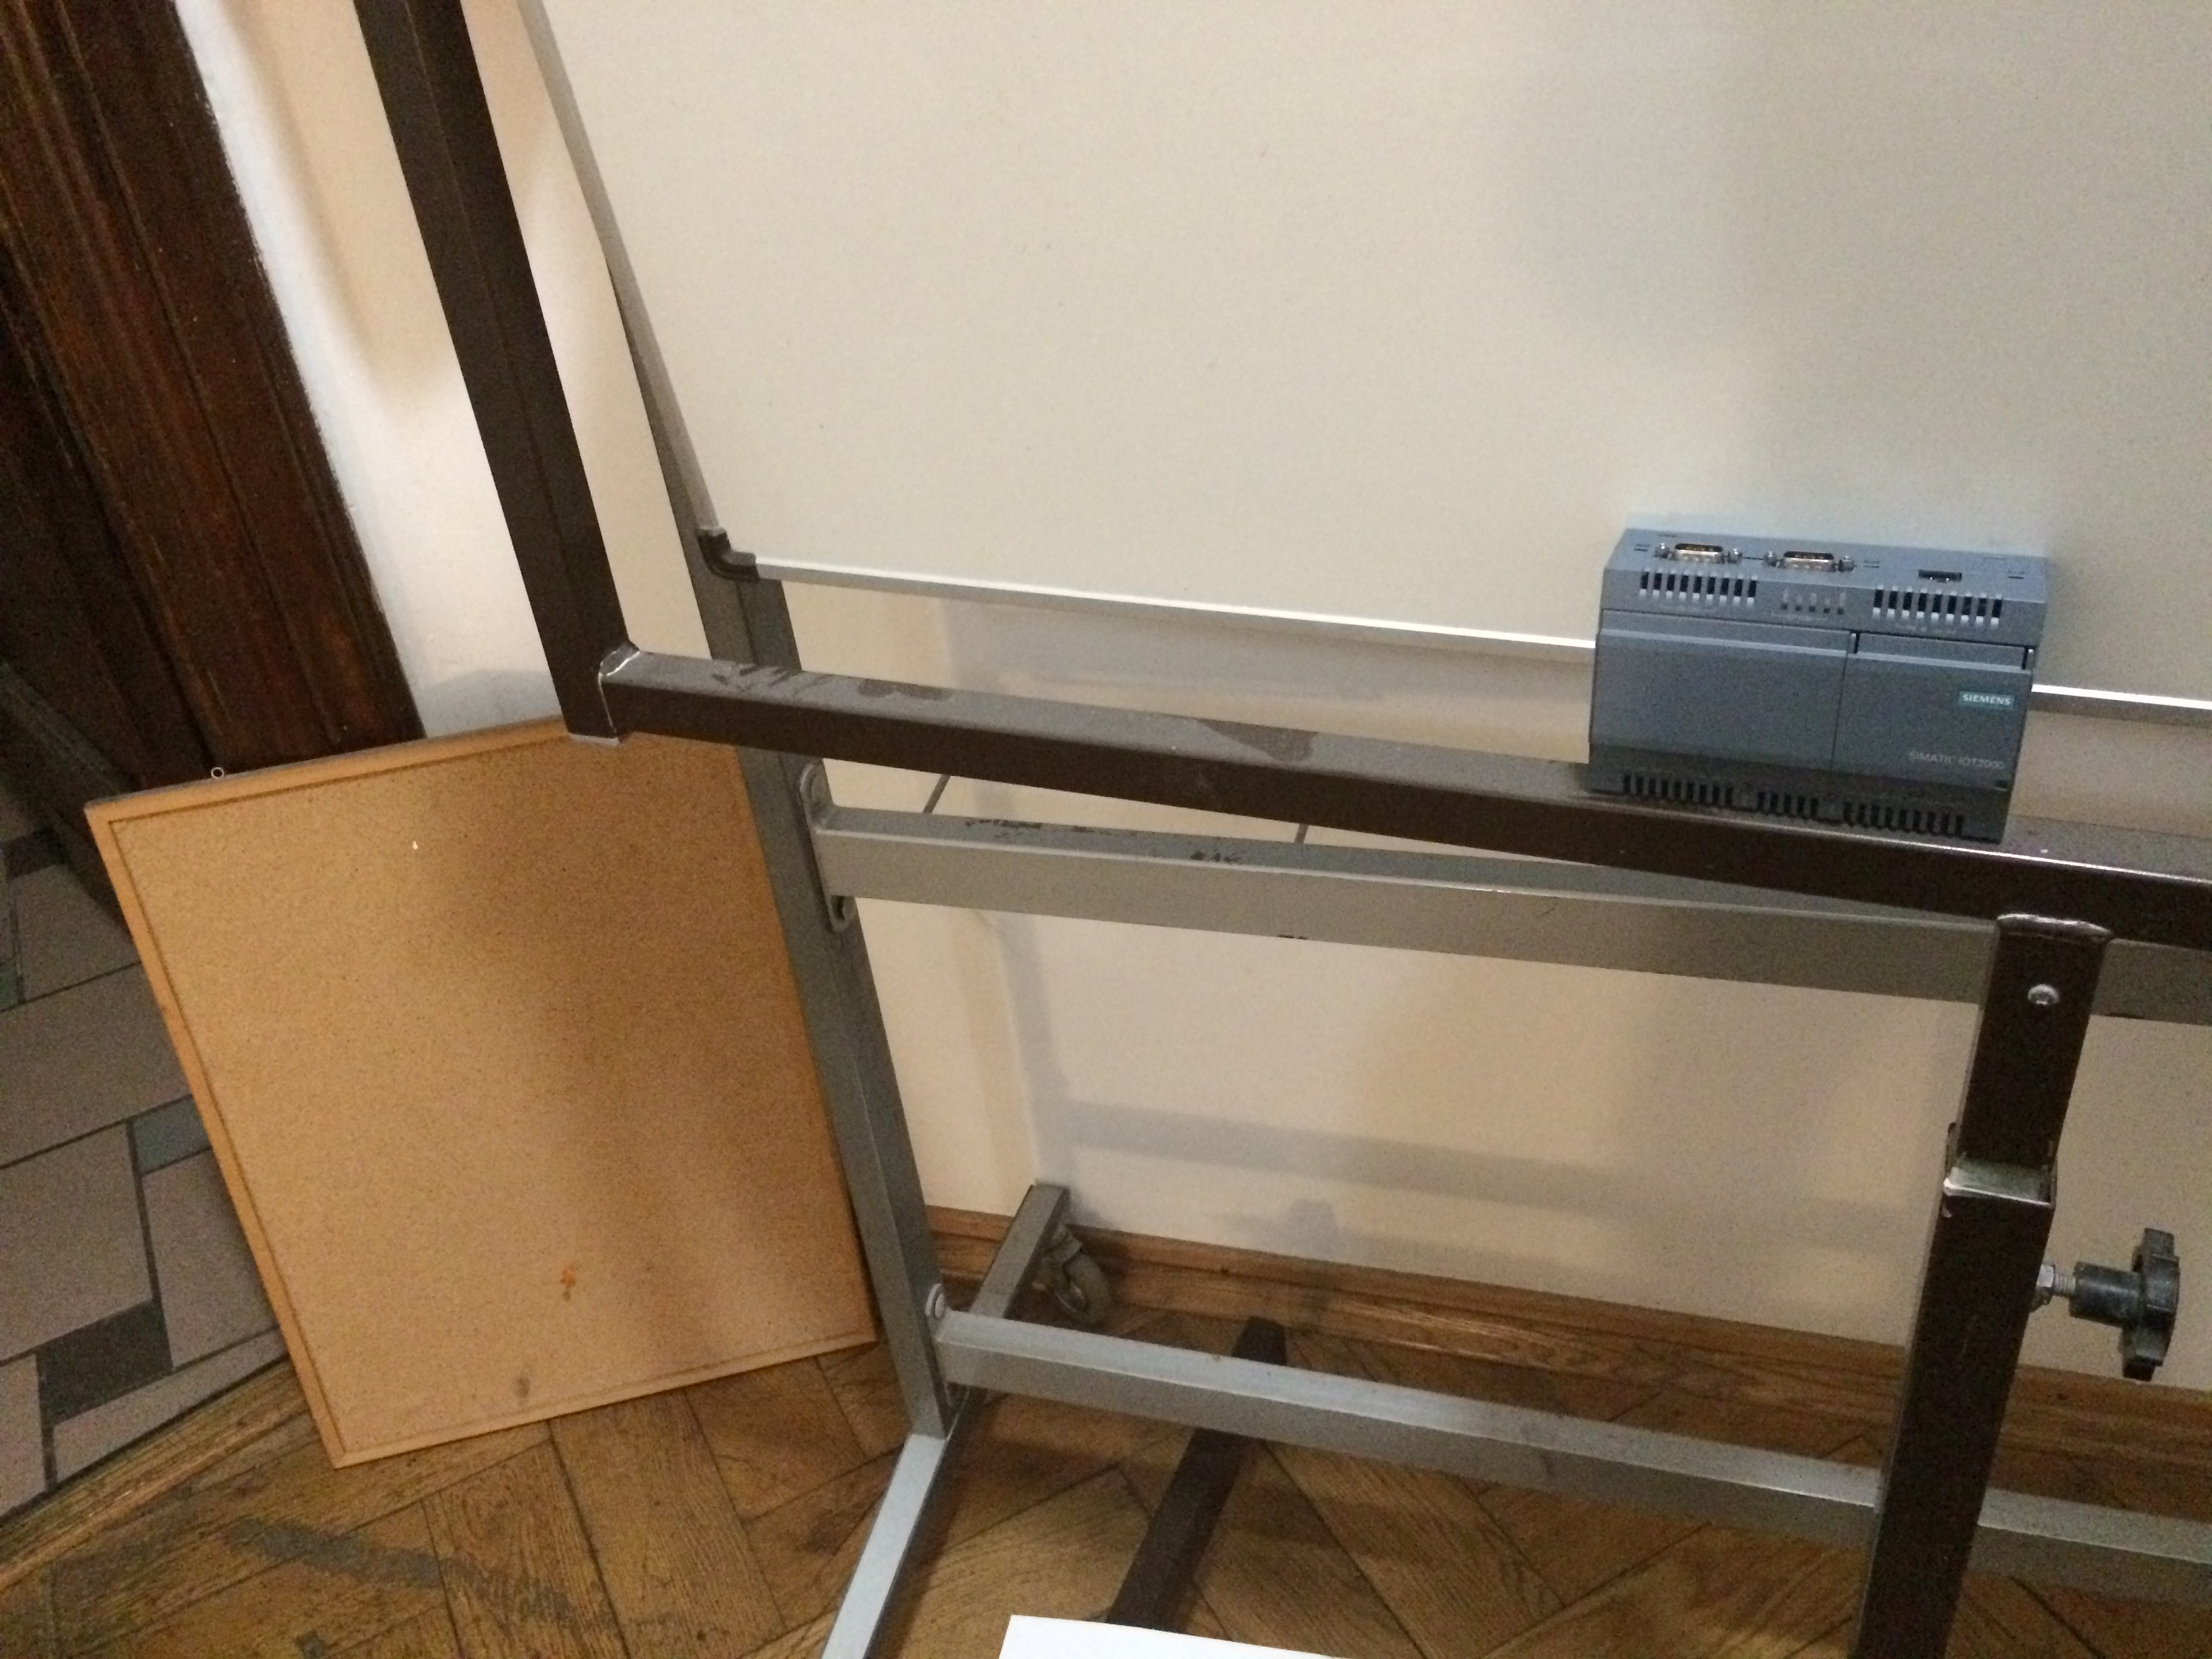iot2000: (1581, 521, 2052, 849)
